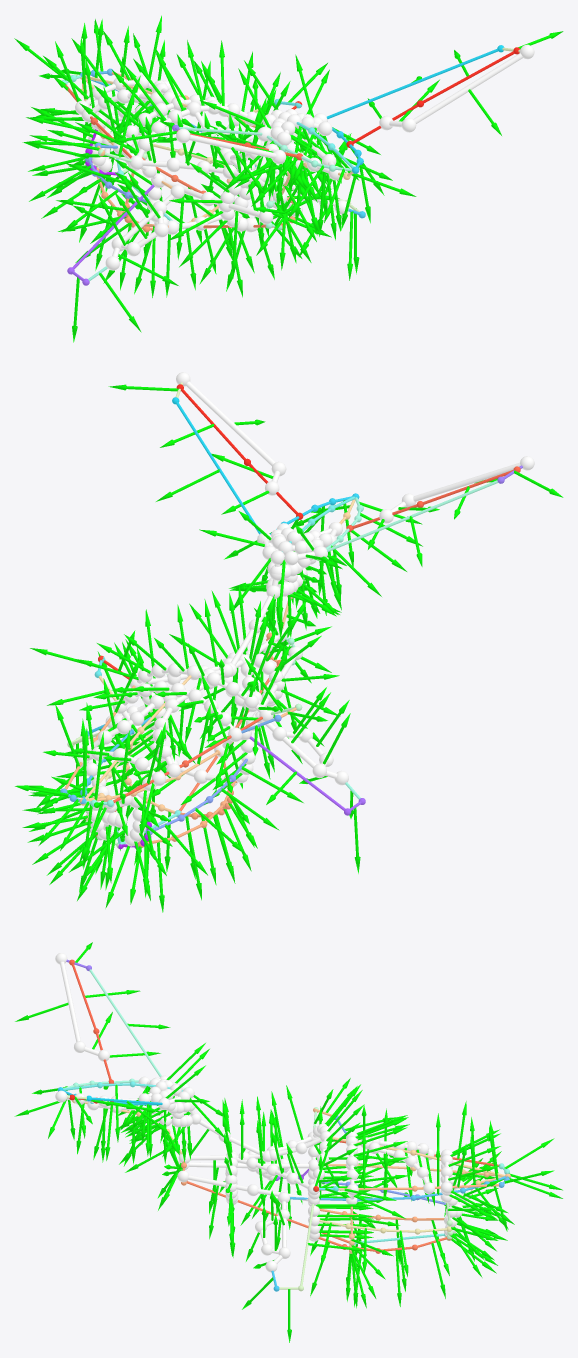
Rendered from ils_spacecraft_29.gltf.
3 renders of one model, top to bottom at view 1: azimuth 30°, elevation 25°; view 2: azimuth 150°, elevation 25°; view 3: azimuth 270°, elevation 25°, orthographic. The views are drawn at different scales.
Bounding box in the file's own units: 0.7171 × 0.5026 × 0.9126.
